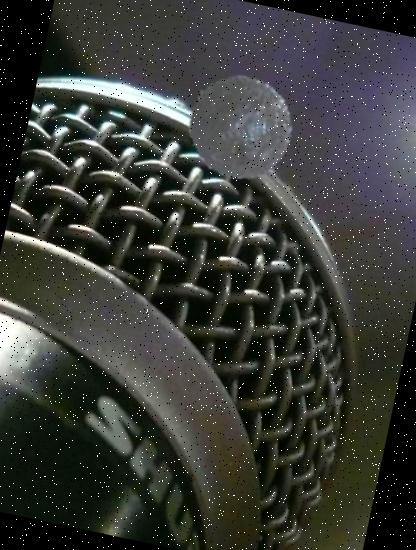Avocado: (170, 57, 306, 194)
